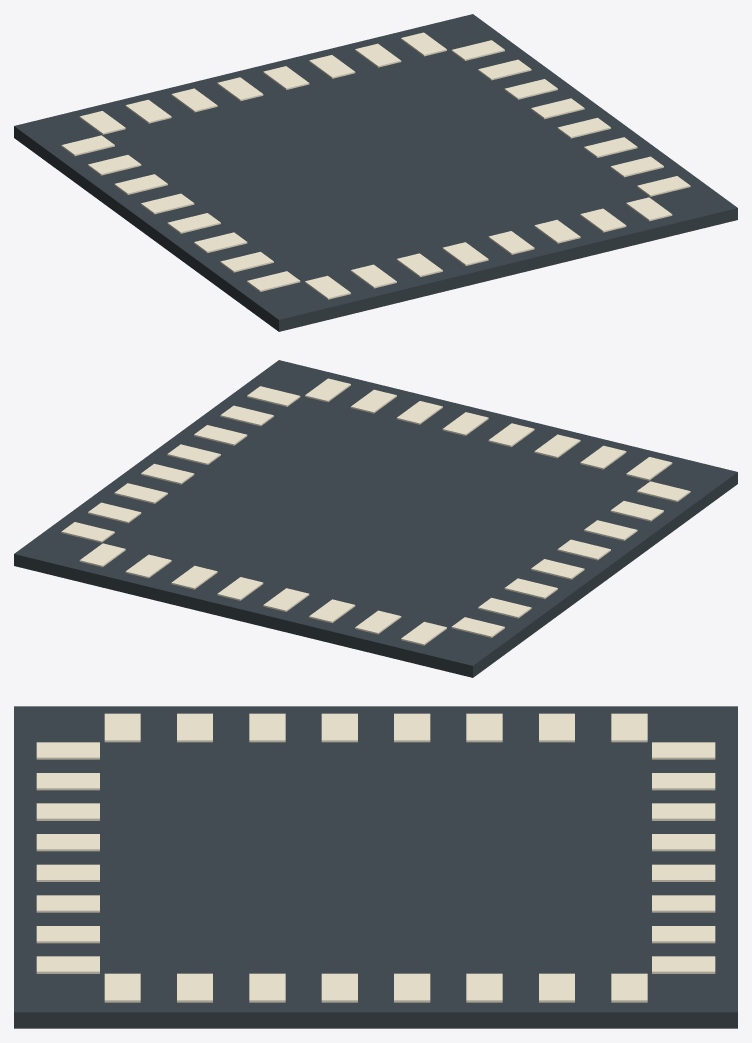
File: Road_Intersection_8m.fbx
3 views of the same model, one above another, from view 1: azimuth 30°, elevation 25°; view 2: azimuth 150°, elevation 25°; view 3: azimuth 270°, elevation 25° (orthographic). The views are drawn at different scales.
Visible parts, largest first — view 1: Asphalt.001, CrosswalkStripe.004, CrosswalkStripe.005, CrosswalkStripe.006, CrosswalkStripe.008, CrosswalkStripe.009, CrosswalkStripe.015, CrosswalkStripe.001, CrosswalkStripe.002, CrosswalkStripe.003, CrosswalkStripe.007, CrosswalkStripe.010 (+21 smaller); view 2: Asphalt.001, CrosswalkStripe.001, CrosswalkStripe.002, CrosswalkStripe.003, CrosswalkStripe.008, CrosswalkStripe.014, CrosswalkStripe.015, CrosswalkStripe, CrosswalkStripe.004, CrosswalkStripe.005, CrosswalkStripe.006, CrosswalkStripe.009 (+21 smaller); view 3: Asphalt.001, CrosswalkStripe.016, CrosswalkStripe.018, CrosswalkStripe.021, CrosswalkStripe.023, CrosswalkStripe.024, CrosswalkStripe.026, CrosswalkStripe.029, CrosswalkStripe.031, CrosswalkStripe.017, CrosswalkStripe.019, CrosswalkStripe.020 (+21 smaller).
Boxes of the visible parts, x1,y1,x2,y2 form: Asphalt.001: (14, 14, 737, 331); CrosswalkStripe.004: (141, 193, 194, 214); CrosswalkStripe.005: (114, 174, 167, 194); CrosswalkStripe.006: (88, 155, 141, 175); CrosswalkStripe.008: (637, 176, 690, 196); CrosswalkStripe.009: (610, 156, 663, 177); CrosswalkStripe.015: (451, 40, 504, 60); CrosswalkStripe.001: (220, 251, 273, 272); CrosswalkStripe.002: (194, 232, 247, 253); CrosswalkStripe.003: (167, 213, 220, 233); CrosswalkStripe.007: (61, 135, 114, 155); CrosswalkStripe.010: (584, 137, 637, 157); Asphalt.001: (14, 360, 737, 677); CrosswalkStripe.001: (610, 501, 663, 521); CrosswalkStripe.002: (584, 520, 637, 540); CrosswalkStripe.003: (557, 539, 610, 560); CrosswalkStripe.008: (247, 386, 300, 406); CrosswalkStripe.014: (88, 502, 141, 523); CrosswalkStripe.015: (61, 522, 114, 542); CrosswalkStripe: (637, 481, 690, 501); CrosswalkStripe.004: (531, 559, 584, 579); CrosswalkStripe.005: (504, 578, 557, 599); CrosswalkStripe.006: (478, 597, 531, 618); CrosswalkStripe.009: (220, 405, 273, 426); Asphalt.001: (14, 706, 737, 1028); CrosswalkStripe.016: (36, 742, 99, 759); CrosswalkStripe.018: (36, 803, 99, 820); CrosswalkStripe.021: (36, 895, 99, 912); CrosswalkStripe.023: (36, 956, 99, 973); CrosswalkStripe.024: (652, 742, 715, 759); CrosswalkStripe.026: (652, 803, 715, 820); CrosswalkStripe.029: (652, 895, 715, 912); CrosswalkStripe.031: (652, 956, 715, 973); CrosswalkStripe.017: (36, 773, 99, 790); CrosswalkStripe.019: (36, 834, 99, 851); CrosswalkStripe.020: (36, 864, 99, 881).
Size of the model in its own units: 8 by 0.2275 by 8.
